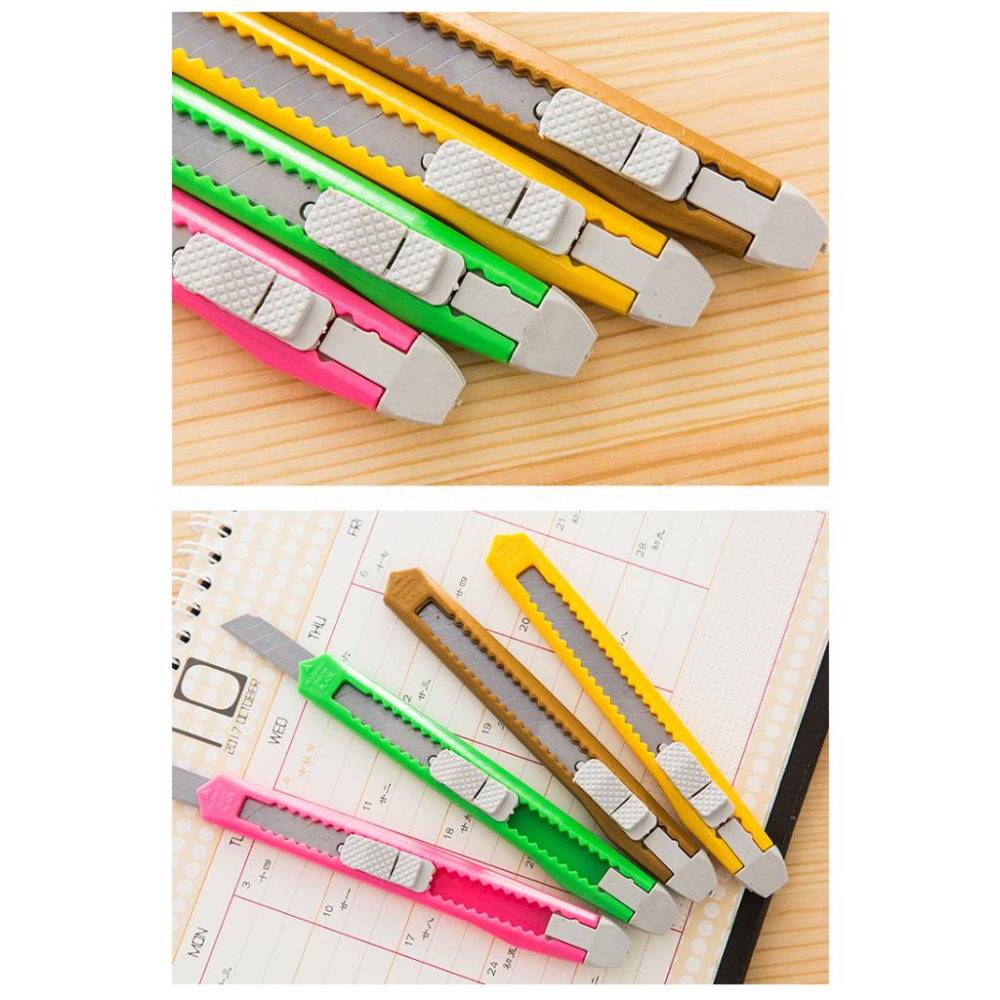cutter: (171, 13, 717, 329), (219, 613, 680, 937), (261, 13, 829, 271), (172, 74, 600, 380), (482, 535, 792, 897), (379, 569, 716, 901), (173, 764, 635, 971), (171, 187, 464, 424)
